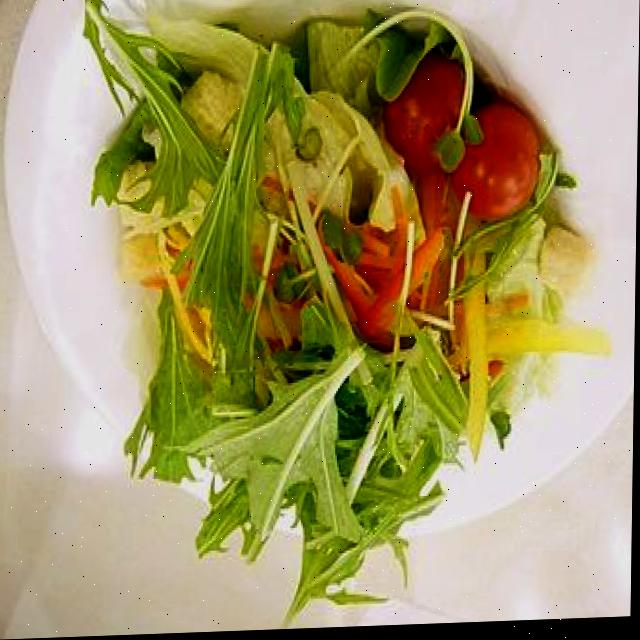蔬菜料理: (25, 0, 640, 558)
